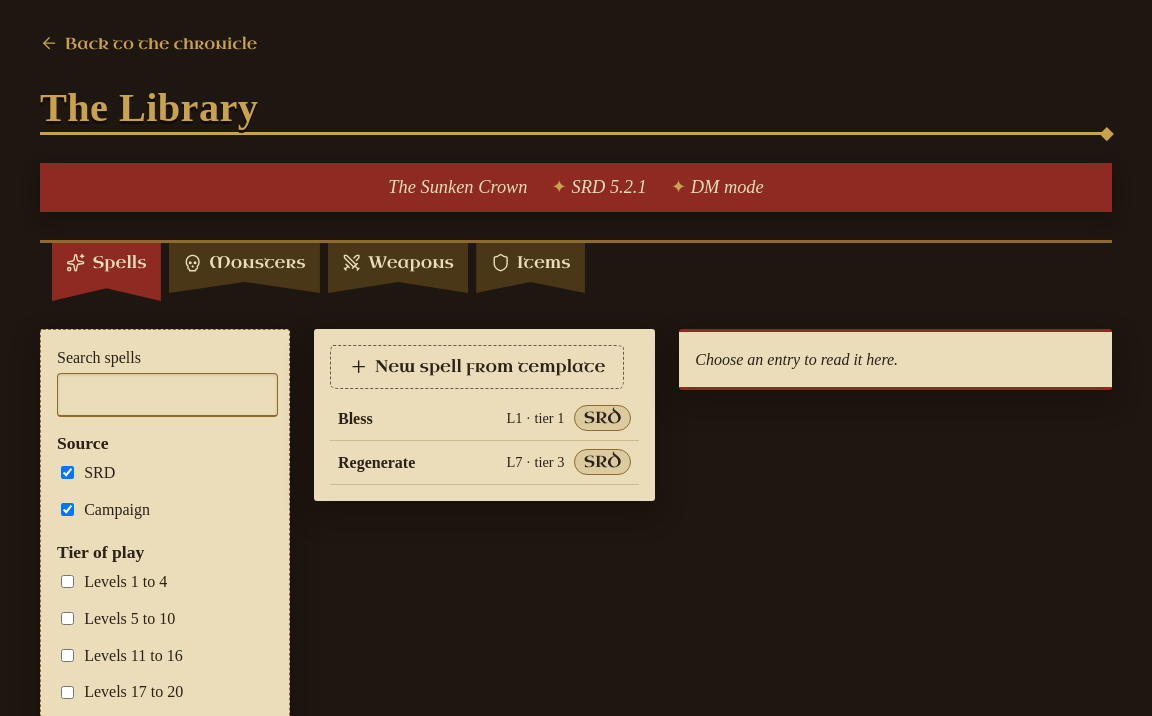
Test: the spells shelf › leaves the stubbed actions disabled
The width and height of the screenshot is (1152, 716).
Click the button "Bless L1 · tier 1 SRD": click(355, 418) [330,397,639,441]
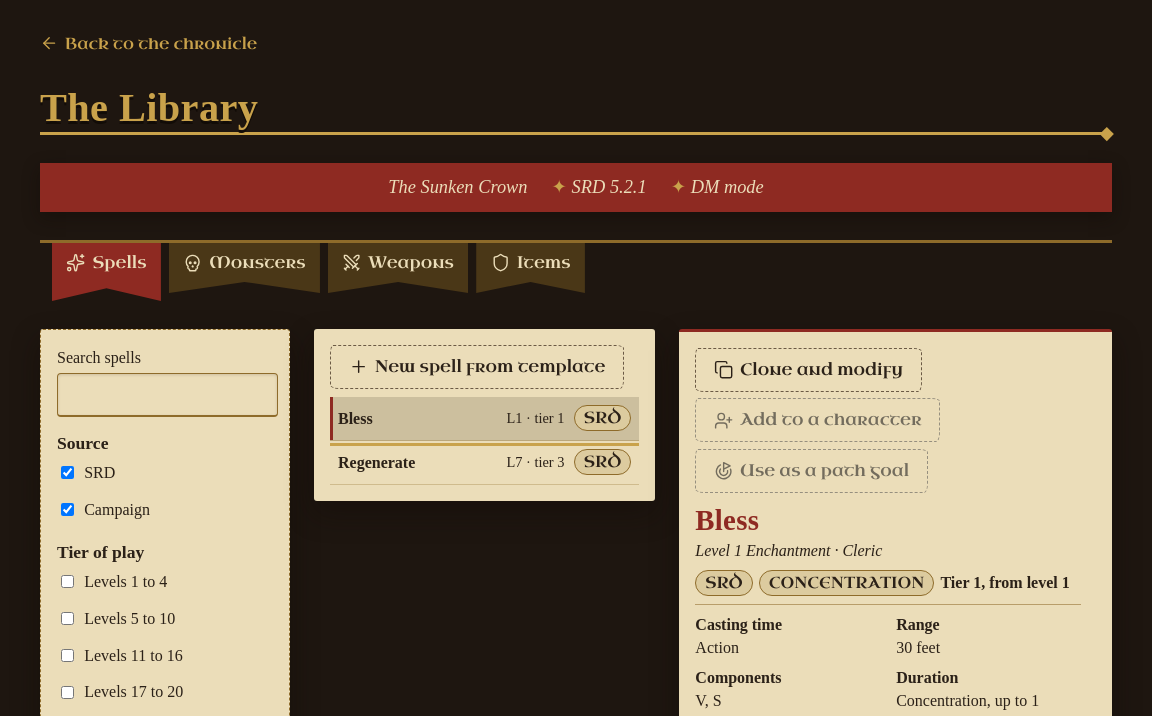
Result: the button "Clone and modify" is enabled at [695,348,922,392]
Result: the button "Add to a character" is disabled at [695,398,940,442]
Result: the button "Use as a path goal" is disabled at [695,449,928,493]
